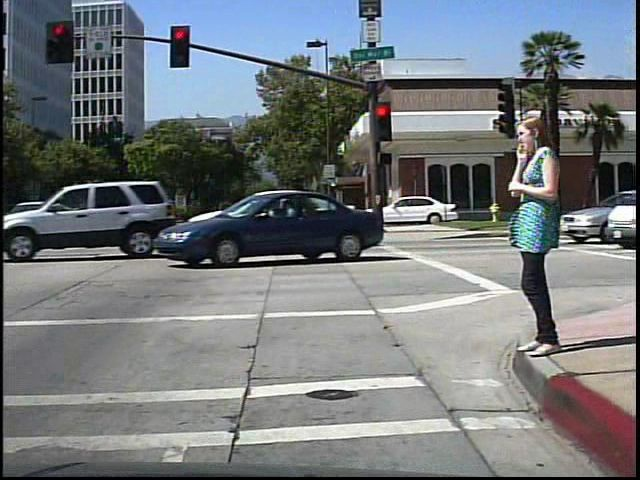person: (504, 107, 566, 367)
